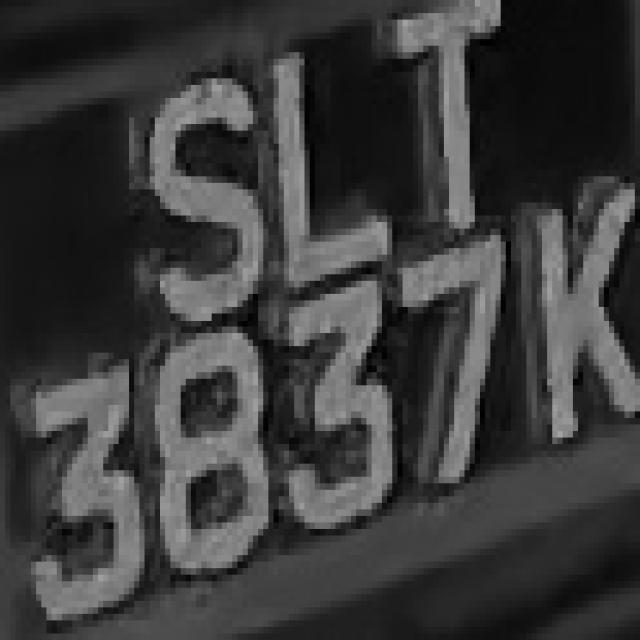3: (258, 300, 403, 536), (21, 366, 160, 607)
7: (376, 248, 501, 496)
8: (134, 346, 279, 575)
K: (4, 2, 6, 4)
L: (253, 53, 397, 274)
S: (103, 79, 258, 314)
T: (372, 20, 506, 222)
